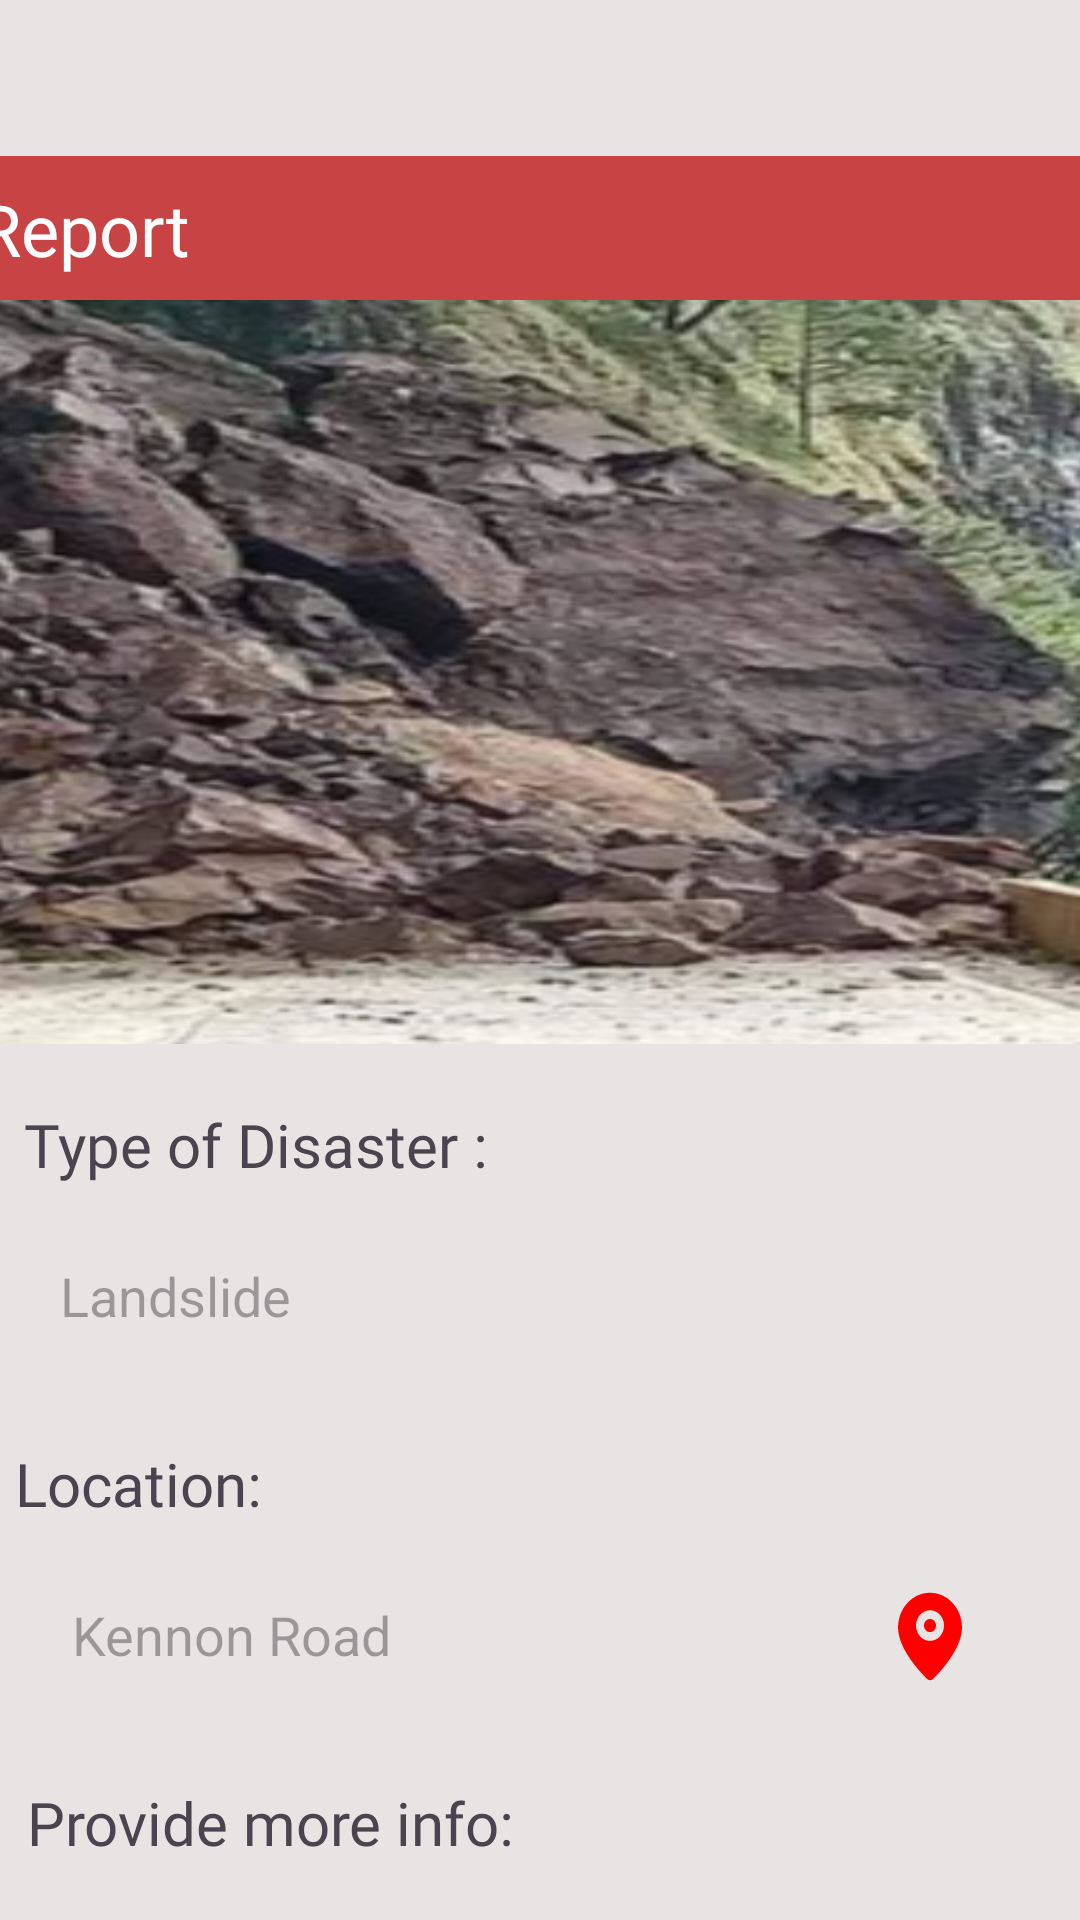

Screen size 1080*1920. Icon name, then its center in pixels as (x,y):
eva pin: (930,1636)
